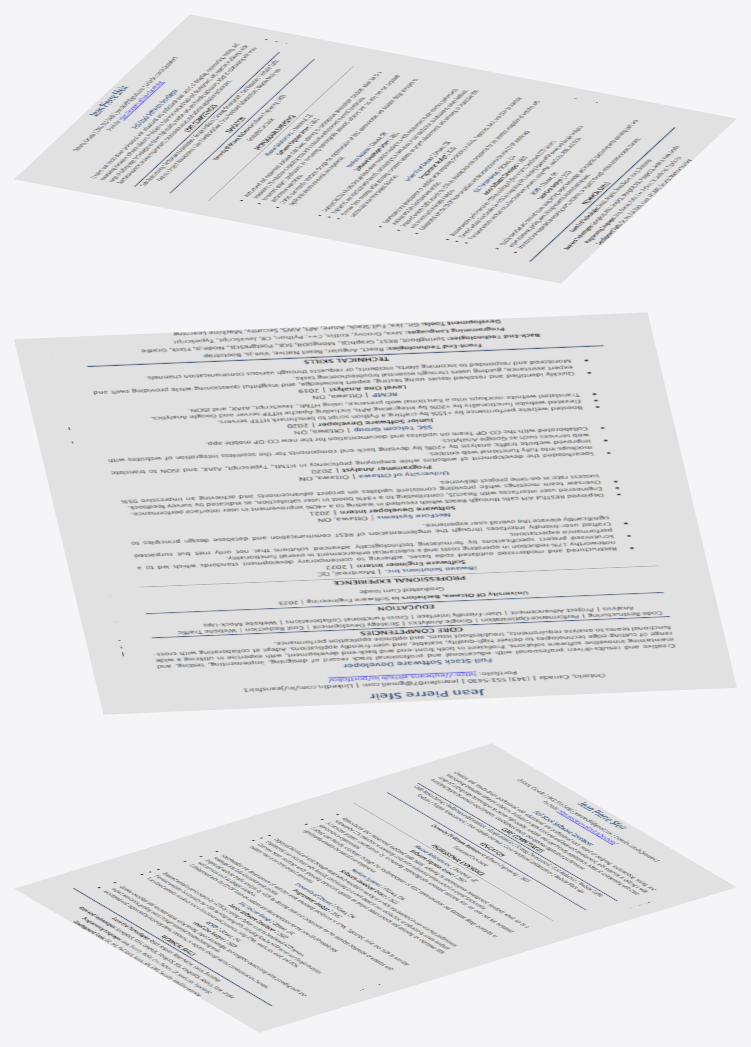
The model's file is CVPaper.glb.
3 views of the same model, one above another, from view 1: azimuth 30°, elevation 25°; view 2: azimuth 150°, elevation 25°; view 3: azimuth 270°, elevation 25° (orthographic). The views are drawn at different scales.
Visible parts, largest first — view 1: paper; view 2: paper; view 3: paper.
Part boxes in pixels (bbox=[...]): paper: bbox=[14, 14, 736, 283]; paper: bbox=[14, 312, 736, 714]; paper: bbox=[14, 743, 736, 1032].
Size of the model in its own units: 1.13 by 0 by 1.19.
Materials: 1 (1 with a texture image).
